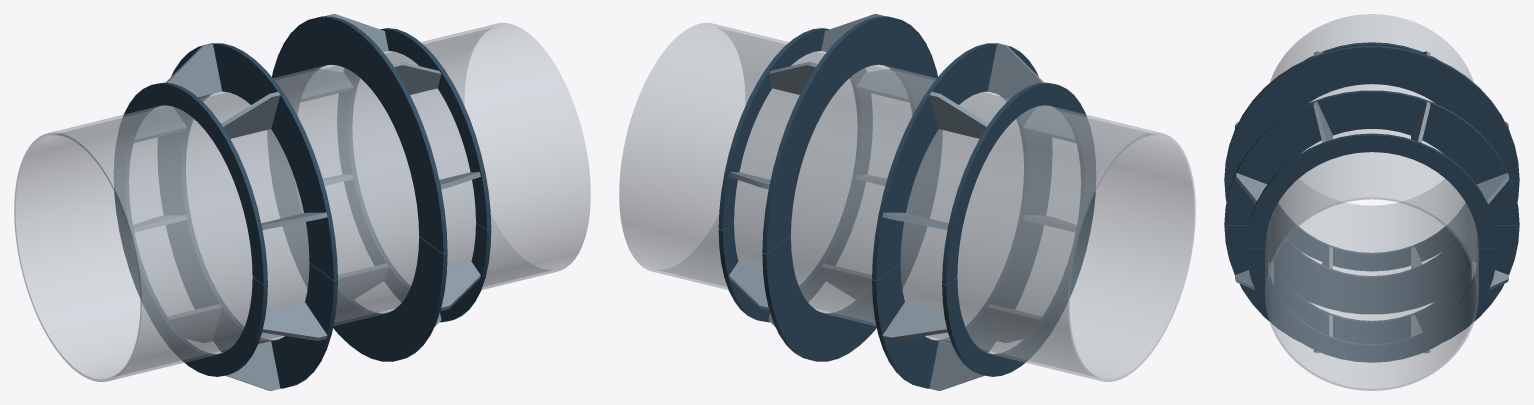
The model's file is TS-667.00.00-02-opora-dn630-D870.glb.
The picture shows the model from 3 angles, left to right: view 1: azimuth 30°, elevation 25°; view 2: azimuth 150°, elevation 25°; view 3: azimuth 270°, elevation 25°; orthographic projection. The views are drawn at different scales.
Parts seen in each view (by area): view 1: truba, polukoltso_1, polukoltso_13, polukoltso_19, polukoltso_7, polukoltso_usil_12, polukoltso_usil_24, polukoltso_usil_6, polukoltso_usil_18, rebro_9, rebro_20, rebro_10 (+9 smaller); view 2: truba, polukoltso_1, polukoltso_13, polukoltso_19, polukoltso_7, polukoltso_usil_12, polukoltso_usil_24, polukoltso_usil_6, polukoltso_usil_18, rebro_10, rebro_23, rebro_9 (+9 smaller); view 3: truba, polukoltso_1, polukoltso_7, polukoltso_19, polukoltso_13, polukoltso_usil_6, polukoltso_usil_18, polukoltso_usil_24, rebro_2, rebro_5, rebro_3, rebro_4 (+3 smaller).
Boxes of the visible parts, x1=… form: truba: x1=14, y1=23, x2=590, y2=381; polukoltso_1: x1=272, y1=16, x2=447, y2=253; polukoltso_13: x1=267, y1=129, x2=447, y2=361; polukoltso_19: x1=157, y1=152, x2=337, y2=388; polukoltso_7: x1=157, y1=43, x2=337, y2=280; polukoltso_usil_12: x1=114, y1=82, x2=267, y2=284; polukoltso_usil_24: x1=114, y1=176, x2=267, y2=376; polukoltso_usil_6: x1=337, y1=28, x2=491, y2=230; polukoltso_usil_18: x1=337, y1=121, x2=491, y2=322; rebro_9: x1=166, y1=44, x2=222, y2=97; rebro_20: x1=262, y1=302, x2=327, y2=340; rebro_10: x1=221, y1=92, x2=280, y2=138; truba: x1=619, y1=23, x2=1195, y2=381; polukoltso_1: x1=762, y1=16, x2=937, y2=253; polukoltso_13: x1=762, y1=129, x2=942, y2=361; polukoltso_19: x1=872, y1=152, x2=1052, y2=388; polukoltso_7: x1=872, y1=43, x2=1052, y2=280; polukoltso_usil_12: x1=942, y1=82, x2=1095, y2=284; polukoltso_usil_24: x1=942, y1=176, x2=1095, y2=376; polukoltso_usil_6: x1=718, y1=28, x2=872, y2=230; polukoltso_usil_18: x1=718, y1=121, x2=872, y2=322; rebro_10: x1=987, y1=44, x2=1043, y2=97; rebro_23: x1=882, y1=302, x2=947, y2=340; rebro_9: x1=929, y1=92, x2=988, y2=138; truba: x1=1265, y1=14, x2=1478, y2=390; polukoltso_1: x1=1224, y1=90, x2=1519, y2=225; polukoltso_7: x1=1224, y1=45, x2=1519, y2=180; polukoltso_19: x1=1224, y1=180, x2=1519, y2=314; polukoltso_13: x1=1224, y1=225, x2=1519, y2=343; polukoltso_usil_6: x1=1246, y1=133, x2=1497, y2=248; polukoltso_usil_18: x1=1246, y1=248, x2=1497, y2=362; polukoltso_usil_24: x1=1274, y1=203, x2=1469, y2=271; rebro_2: x1=1476, y1=173, x2=1508, y2=204; rebro_5: x1=1235, y1=173, x2=1267, y2=204; rebro_3: x1=1411, y1=101, x2=1430, y2=142; rebro_4: x1=1313, y1=101, x2=1332, y2=142.
Bounding box in the file's own units: 1278 × 868 × 870.
